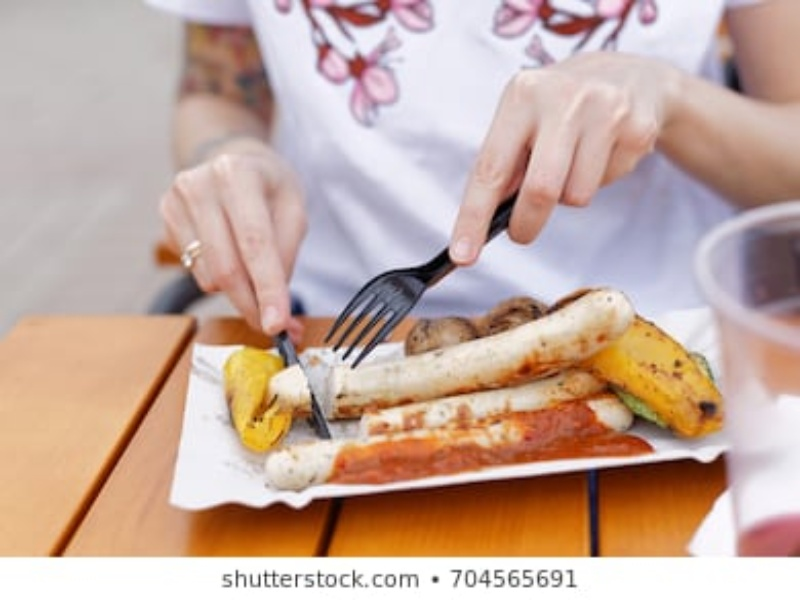plastic-cup: (694, 196, 800, 554)
plastic-silverware: (325, 189, 525, 373), (268, 320, 332, 435)
